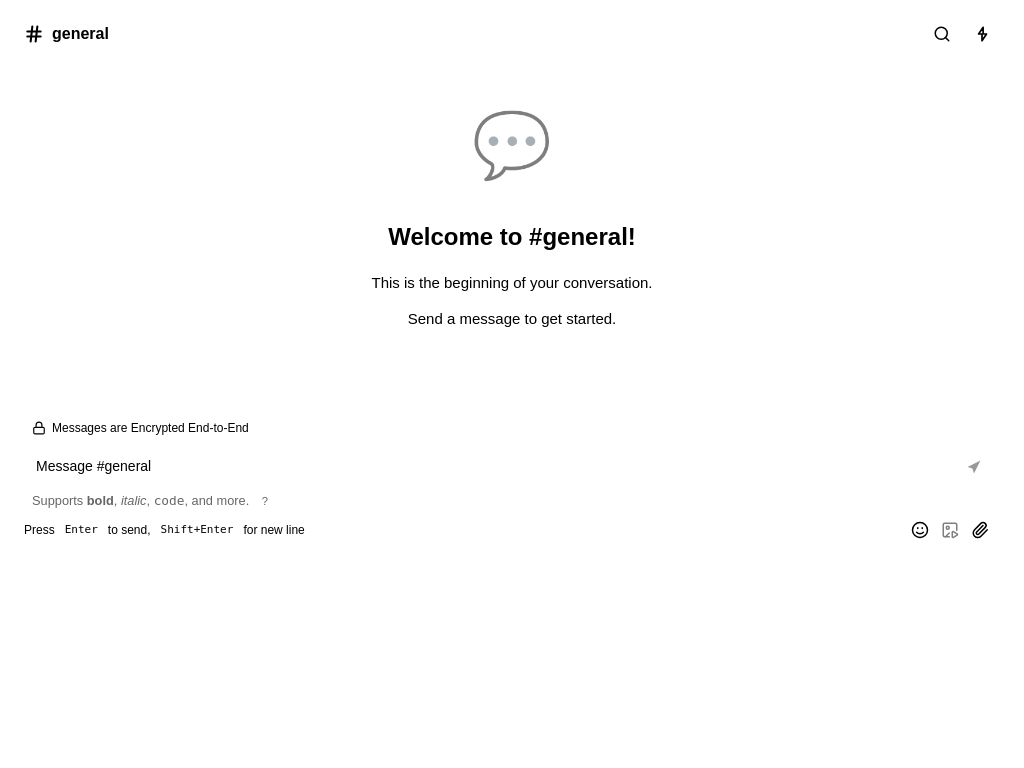
Test: ChatView › returns focus to the Search messages button when Escape closes the search panel
Click the button named "Search messages".
click(942, 34)  # box [924, 20, 960, 48]
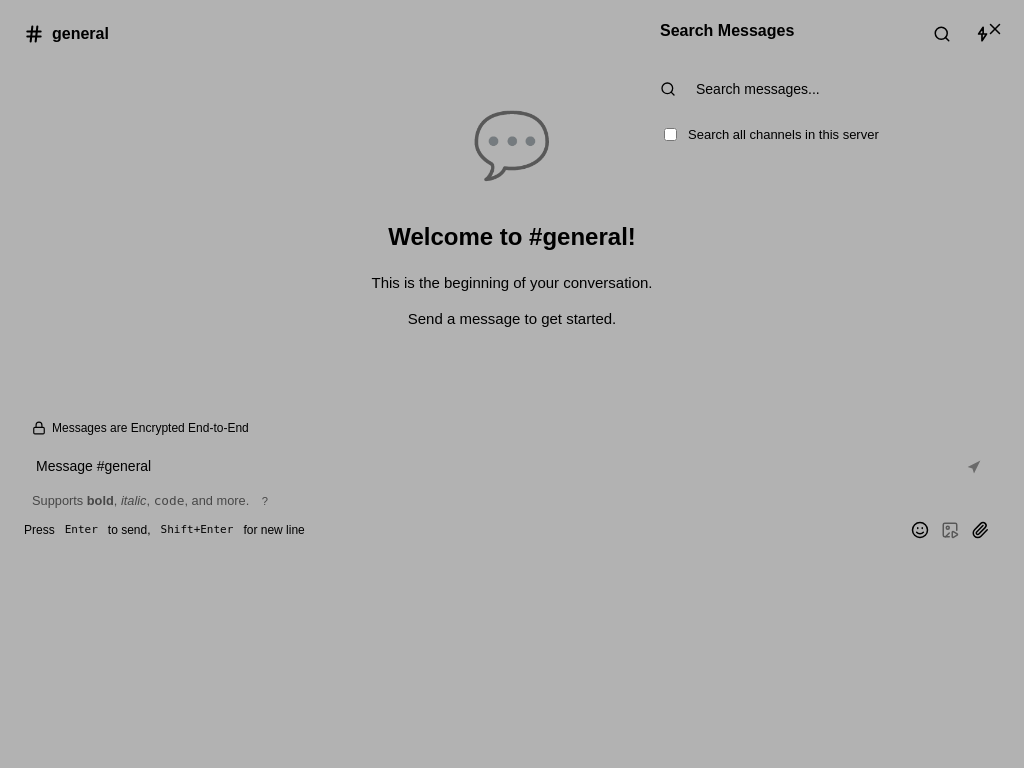
Press Escape
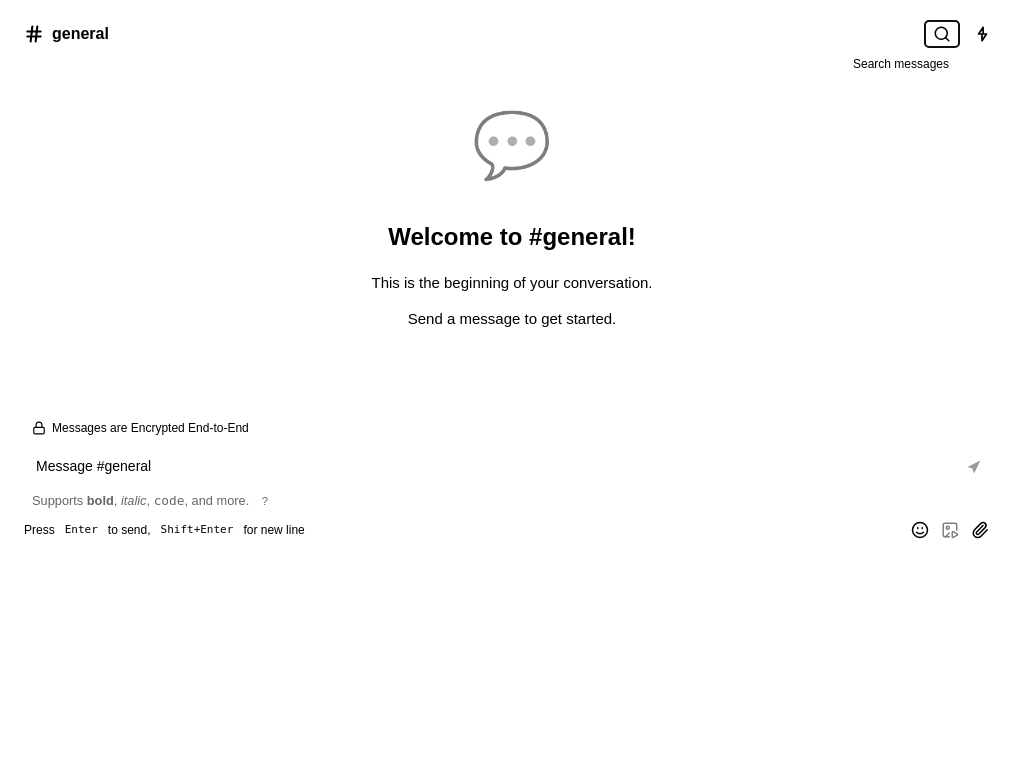
expect the field with placeholder "Search messages..." is gone: met
expect the button named "Search messages" is collapsed: met, box [924, 20, 960, 48]
